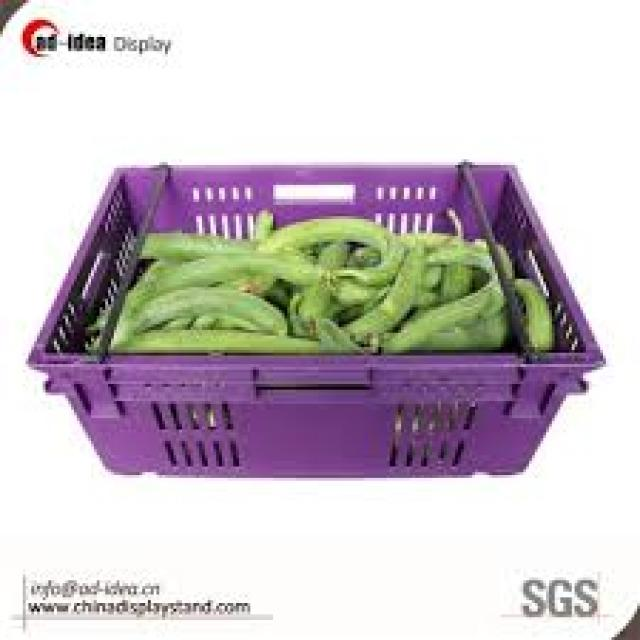basket: (28, 164, 607, 481)
